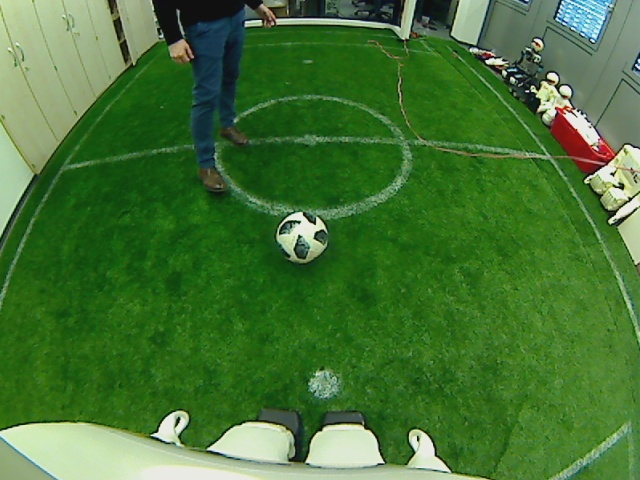ball: (275, 211, 328, 263)
